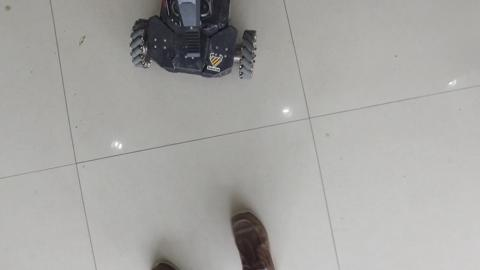chariot: (126, 1, 268, 91)
